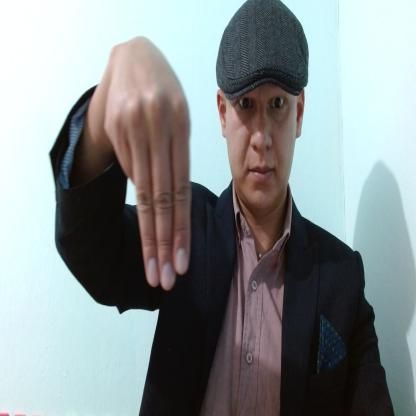M: (105, 37, 190, 291)
